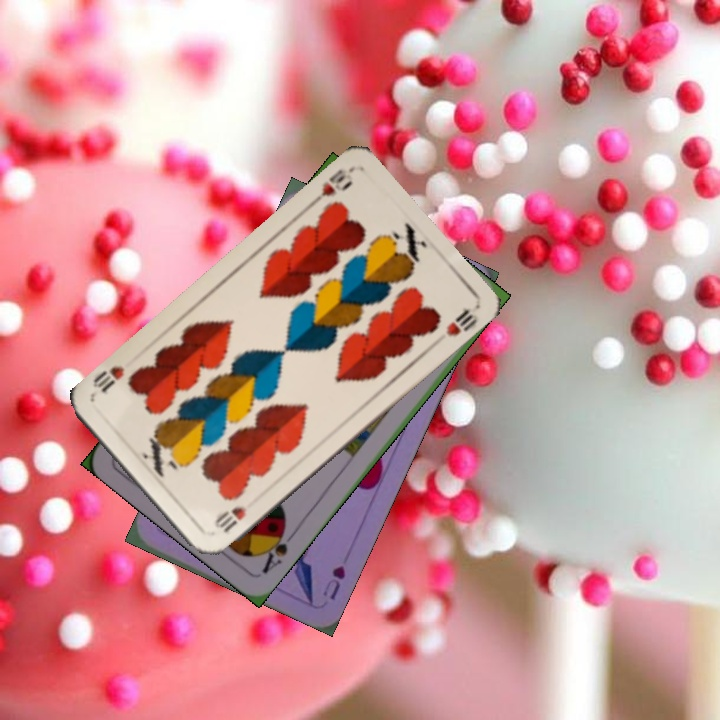H10: (307, 164, 356, 209), (210, 502, 249, 536)
HU: (318, 561, 348, 603)
SA: (256, 520, 299, 577)
